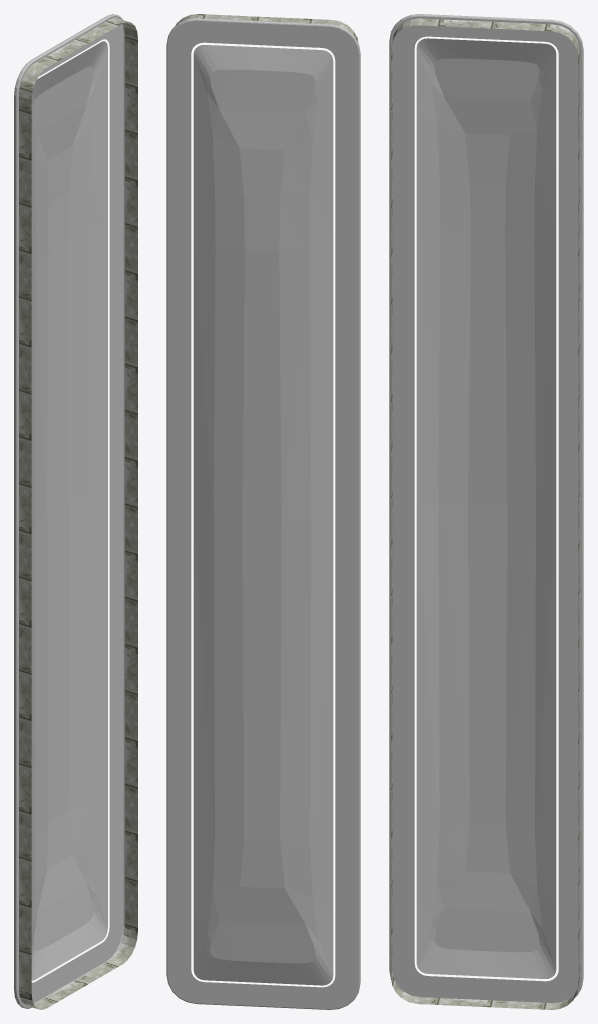
The model's file is Low화단.fbx.
3 renders of one model, left to right at view 1: azimuth 30°, elevation 25°; view 2: azimuth 150°, elevation 25°; view 3: azimuth 330°, elevation 25°, orthographic. The views are drawn at different scales.
Parts seen in each view (by area): view 1: Group_139989, 해변_화단_3; view 2: Group_139989, 해변_화단_3; view 3: Group_139989, 해변_화단_3.
Part boxes in pixels (x1,y1,x2,y2): Group_139989: (31, 41, 107, 980); 해변_화단_3: (14, 14, 137, 1009); Group_139989: (193, 45, 333, 985); 해변_화단_3: (166, 14, 360, 1009); Group_139989: (416, 38, 556, 978); 해변_화단_3: (389, 14, 583, 1009).
Size of the model in its own units: 166 by 987 by 87.59.
